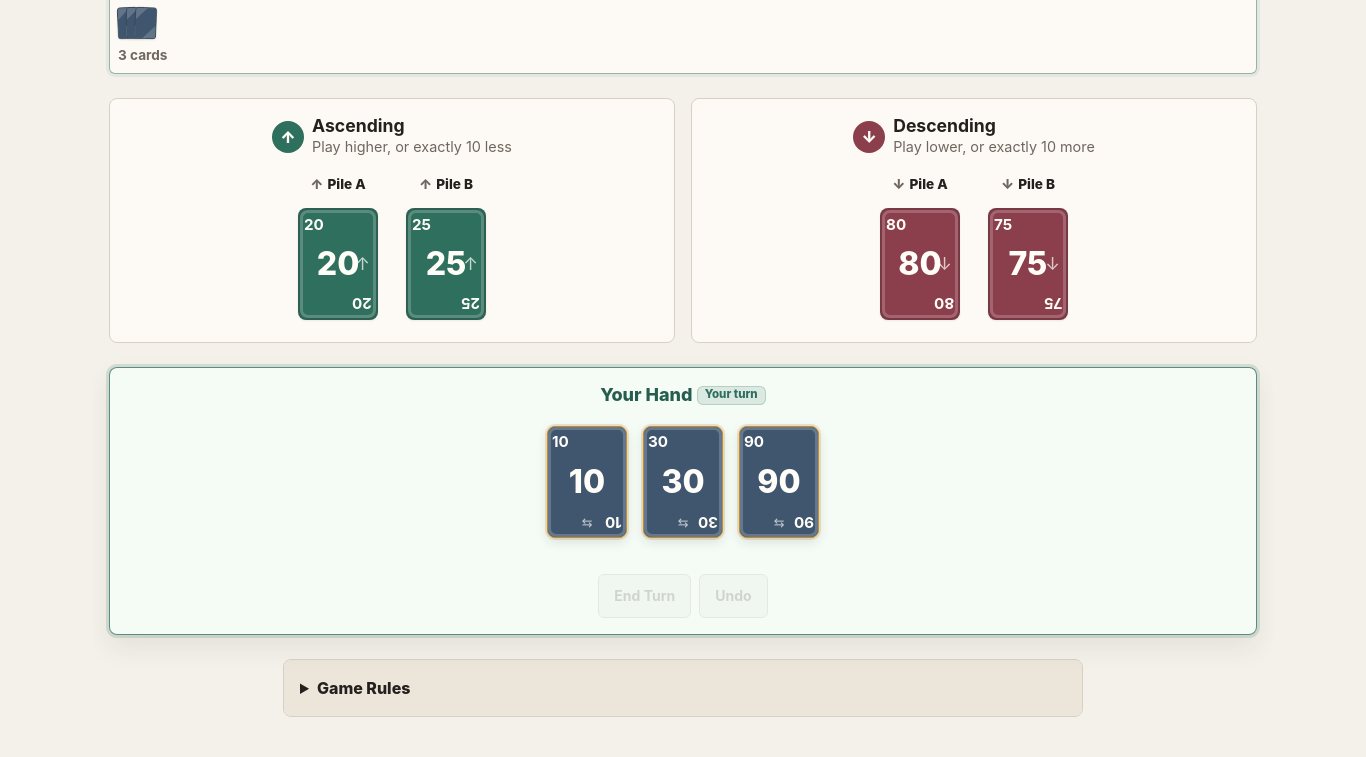
Scenario: board status rendering › clears selected card when the card leaves the visible hand
The image size is (1366, 757).
(page scrolled)
Click the button named "hand card 30" at (683, 482), box [643, 426, 723, 538]
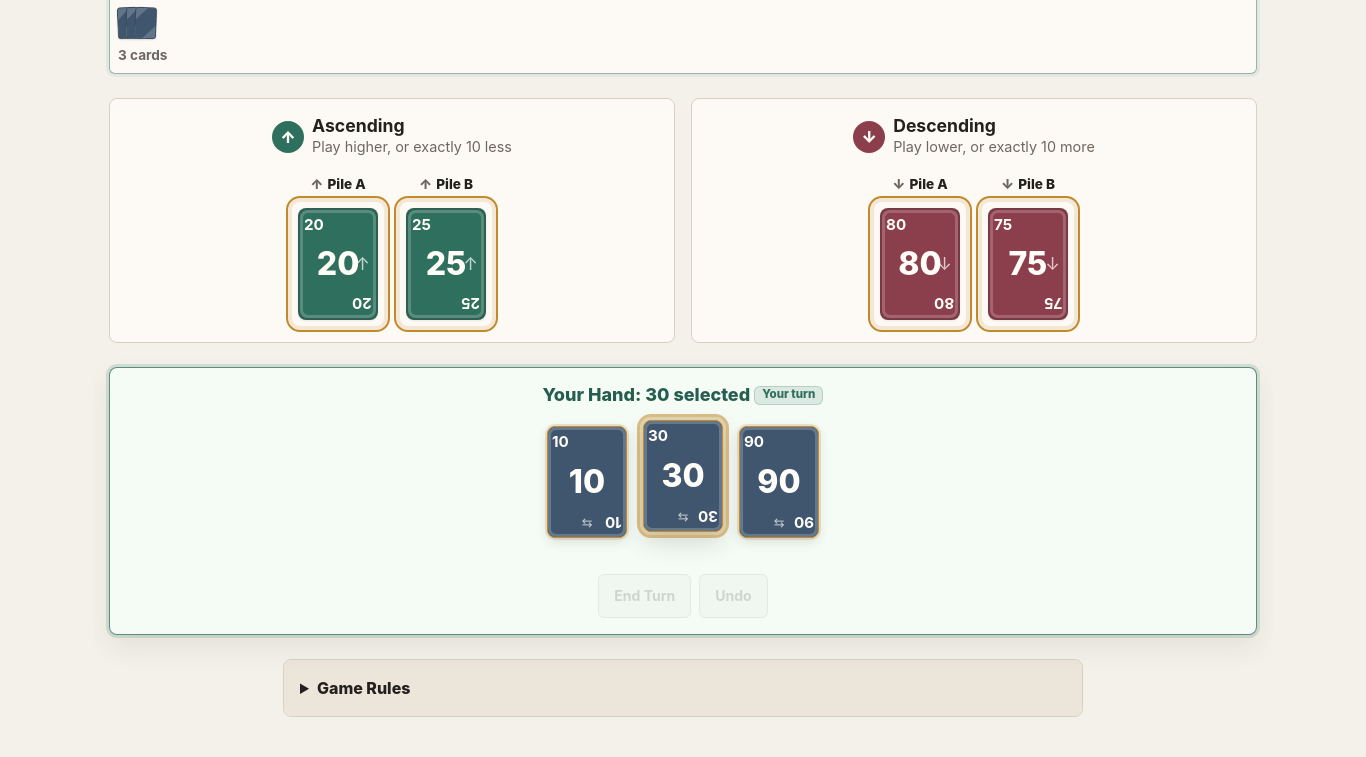
Expected: the text "Your Hand: 30 selected" is shown, [542, 384, 750, 406]
